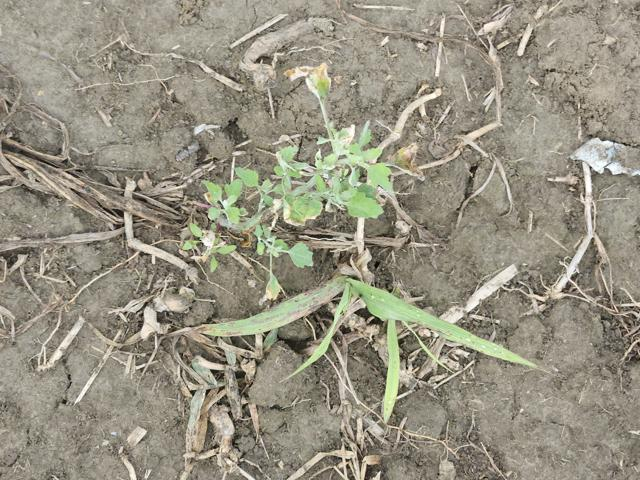bad weed: (124, 43, 454, 271), (161, 274, 545, 420)
